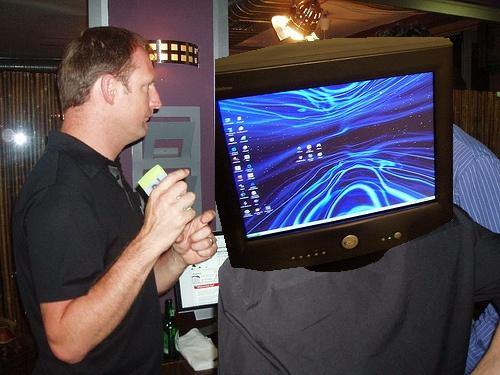tampered: (216, 38, 453, 272)
